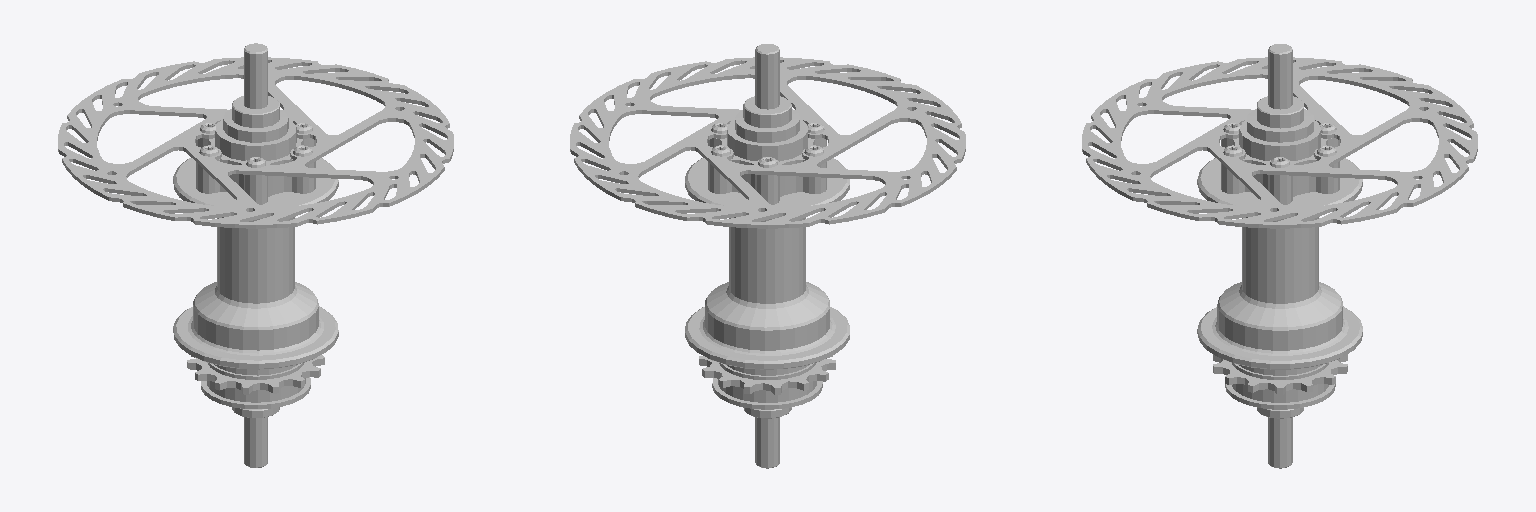
File: MTB_Hub_rear-sharedassets2MTB.assets-17005.obj
The picture shows the model from 3 angles: view 1: azimuth 30°, elevation 25°; view 2: azimuth 150°, elevation 25°; view 3: azimuth 270°, elevation 25°; orthographic projection.
Visible parts, largest first — view 1: MTB_Hub_rear_0; view 2: MTB_Hub_rear_0; view 3: MTB_Hub_rear_0.
Part boxes in pixels (x1,y1,x2,y2): MTB_Hub_rear_0: (58,43,453,467); MTB_Hub_rear_0: (570,44,965,468); MTB_Hub_rear_0: (1082,44,1477,468).
Bounding box in the file's own units: 0.1504 × 0.1739 × 0.1504.